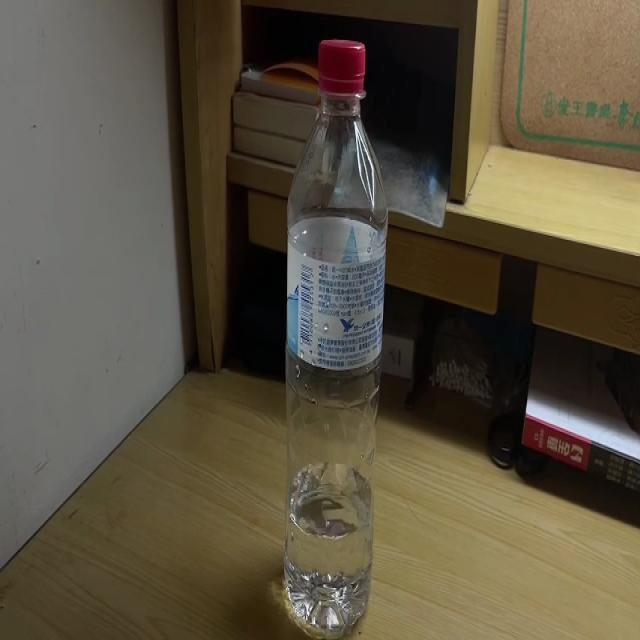Water: (287, 37, 387, 638)
